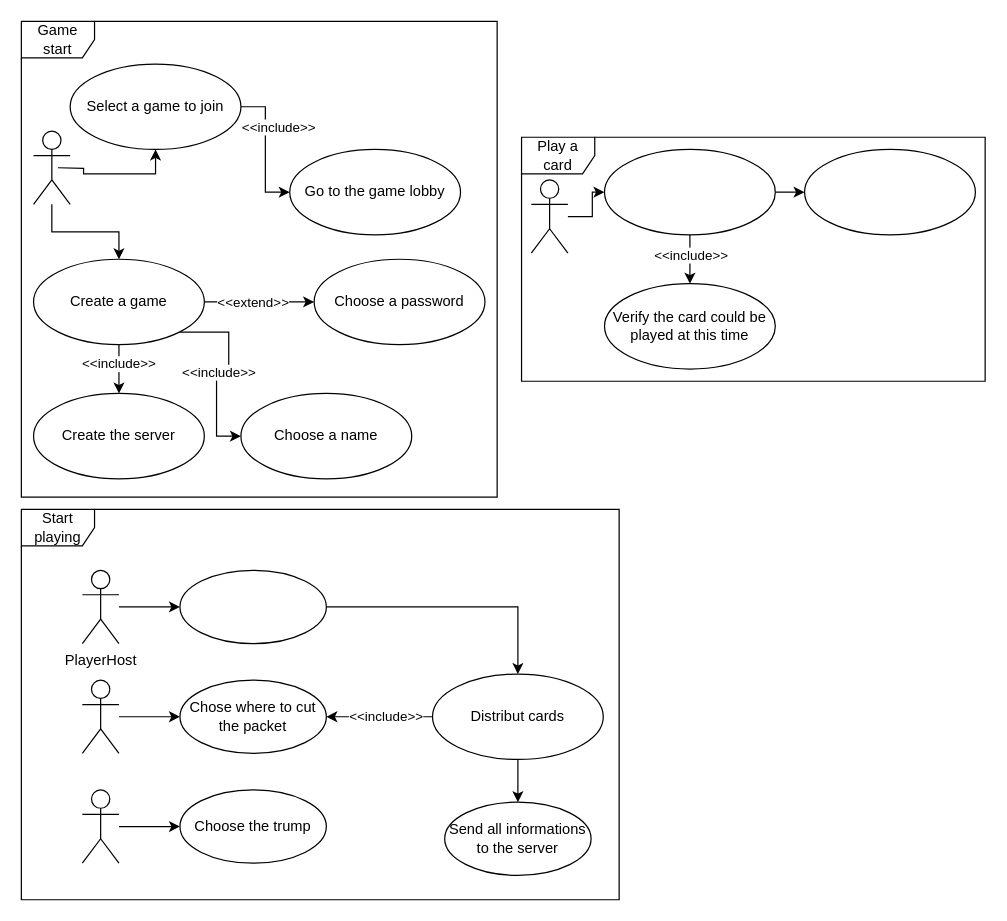
Image size: 1007x921. Some labels were removed from this diagram. Here are the shapes that lost their labels. From the top down, the box of each, then its label:
(32, 130, 70, 204): User
(603, 148, 775, 235): Choose card to play
(803, 148, 975, 235): Deplace the card on all pc
(530, 179, 568, 253): Player
(179, 569, 326, 644): Shuffle the card
(81, 679, 119, 753): PlayerCut
(81, 789, 119, 863): PlayerAtout
